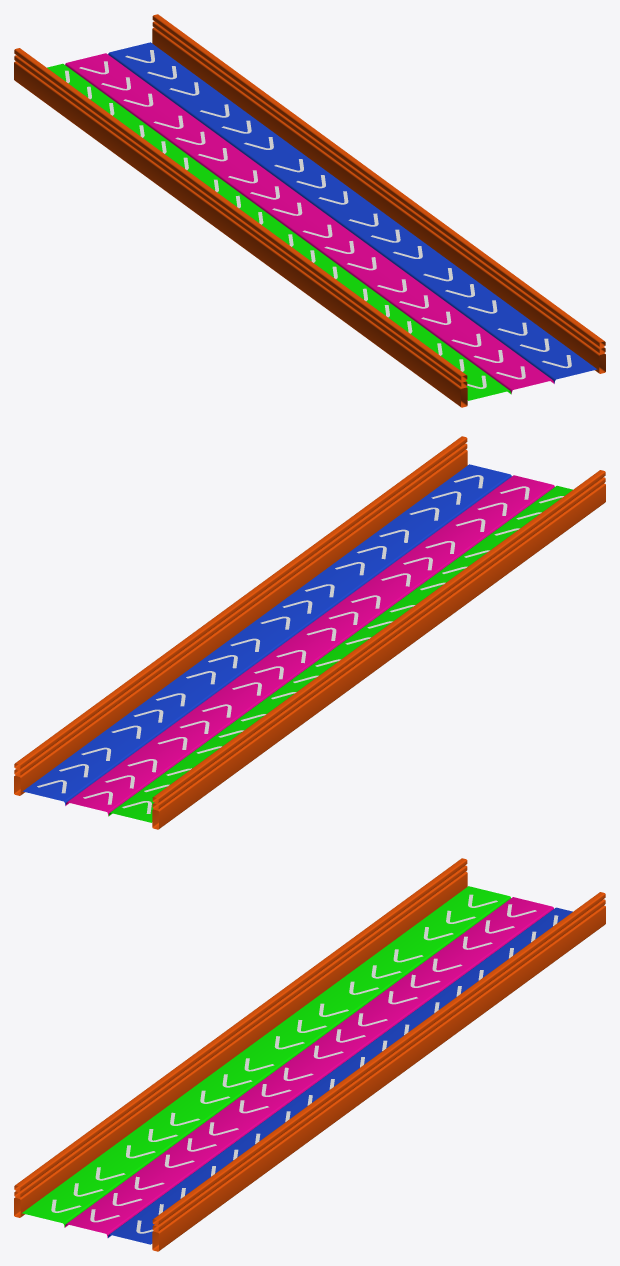
Rendered from floor (4).fbx.
3 renders of one model, top to bottom at view 1: azimuth 30°, elevation 25°; view 2: azimuth 150°, elevation 25°; view 3: azimuth 330°, elevation 25°, orthographic.
Parts seen in each view (by area): view 1: Cube.012; view 2: Cube.012; view 3: Cube.012.
Part boxes in pixels (box(x1,y1,x2,y2)): Cube.012: box(14, 14, 605, 407); Cube.012: box(14, 436, 605, 829); Cube.012: box(14, 858, 605, 1251).
Bounding box in the file's own units: 1125 × 233 × 6000.
